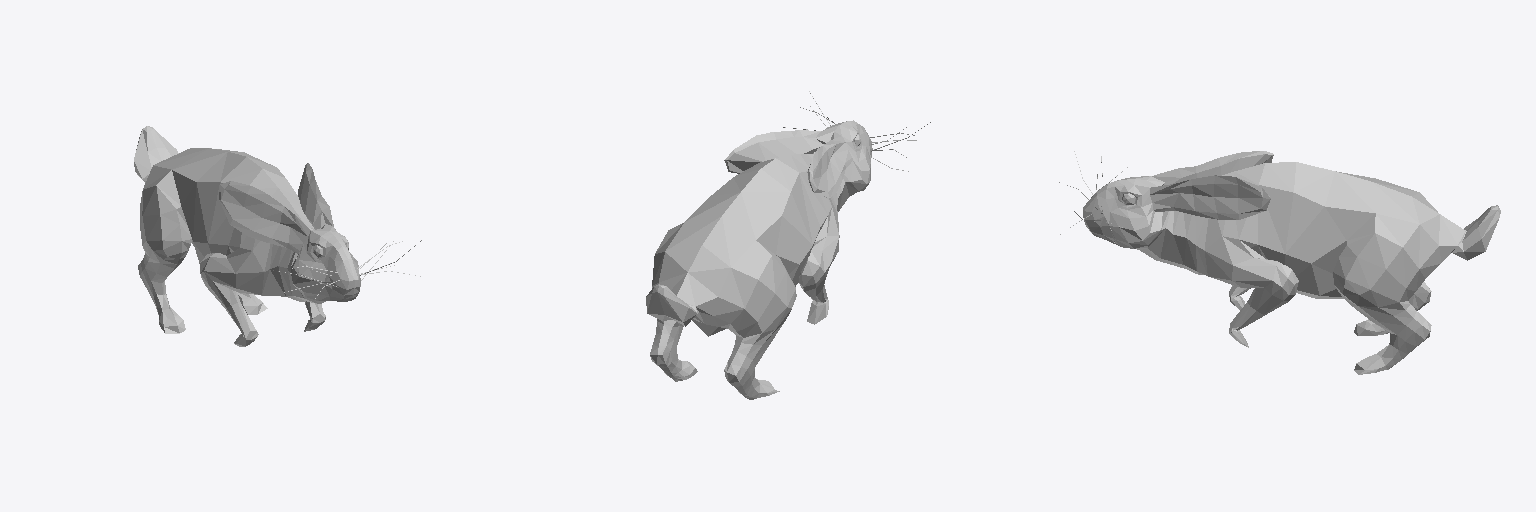
The model's file is rabbit_0.obj.
3 renders of one model, left to right at view 1: azimuth 30°, elevation 25°; view 2: azimuth 150°, elevation 25°; view 3: azimuth 270°, elevation 25°, orthographic.
Parts seen in each view (by area): view 1: Rabbit_Cylinder; view 2: Rabbit_Cylinder; view 3: Rabbit_Cylinder.
Boxes of the visible parts, <box> form: Rabbit_Cylinder: <box>134,126,421,346</box>; Rabbit_Cylinder: <box>646,91,930,399</box>; Rabbit_Cylinder: <box>1059,151,1500,374</box>.
Bounding box in the file's own units: 6.96 × 9.89 × 20.67.